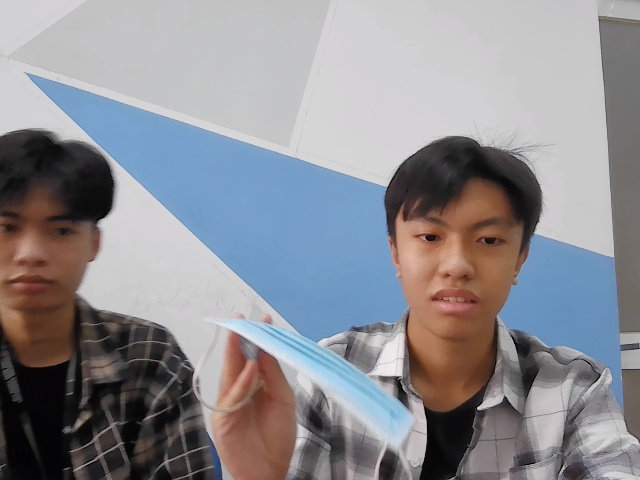human: (381, 134, 546, 339), (1, 123, 111, 311)
mask: (206, 297, 415, 450)
